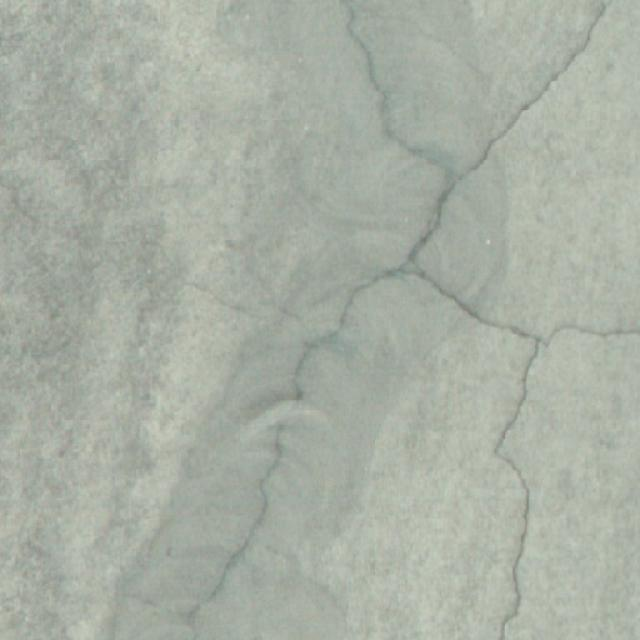Network: (166, 4, 640, 640)
